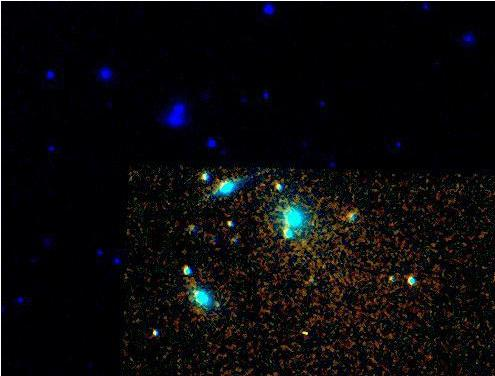star: (203, 289, 233, 319)
